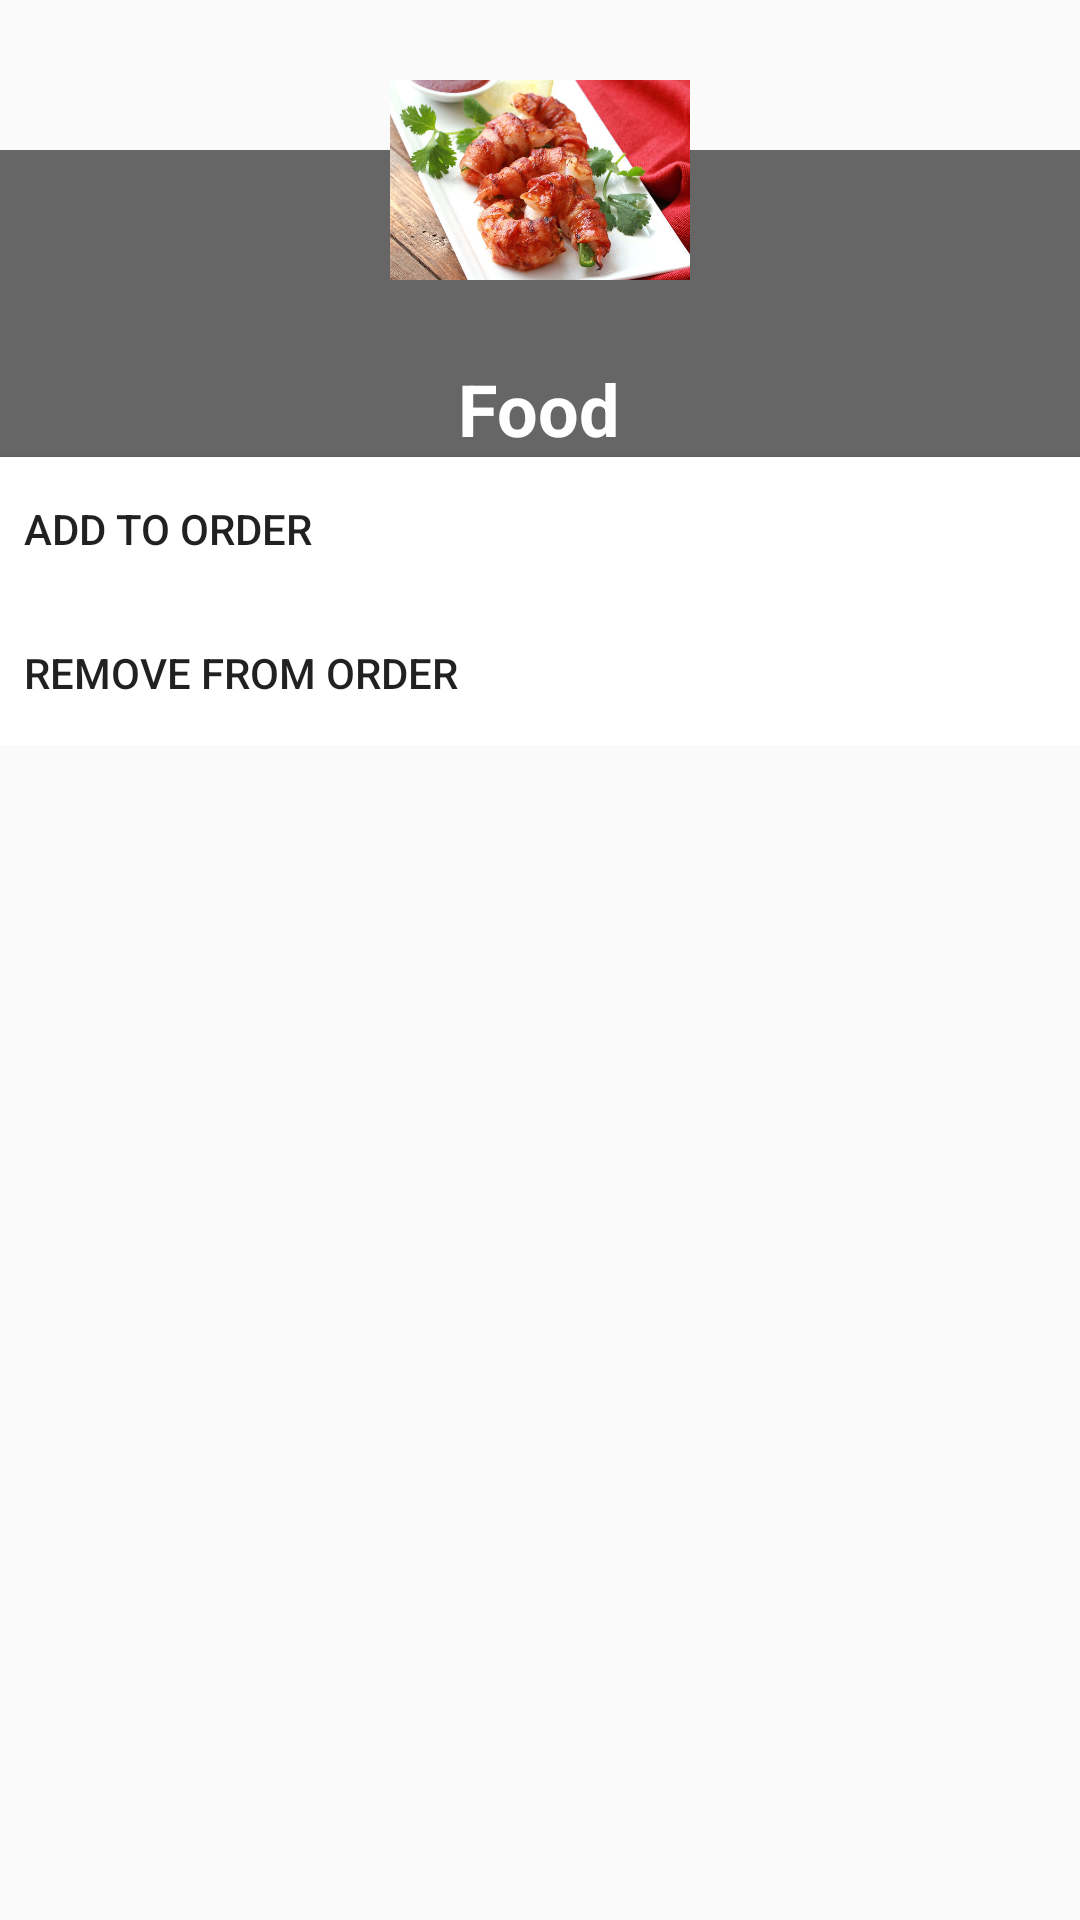

Icon click points for this 1080×1920 phone screenshot, format point (x, y):
bacon wrapped shrimp: point (540, 140)
